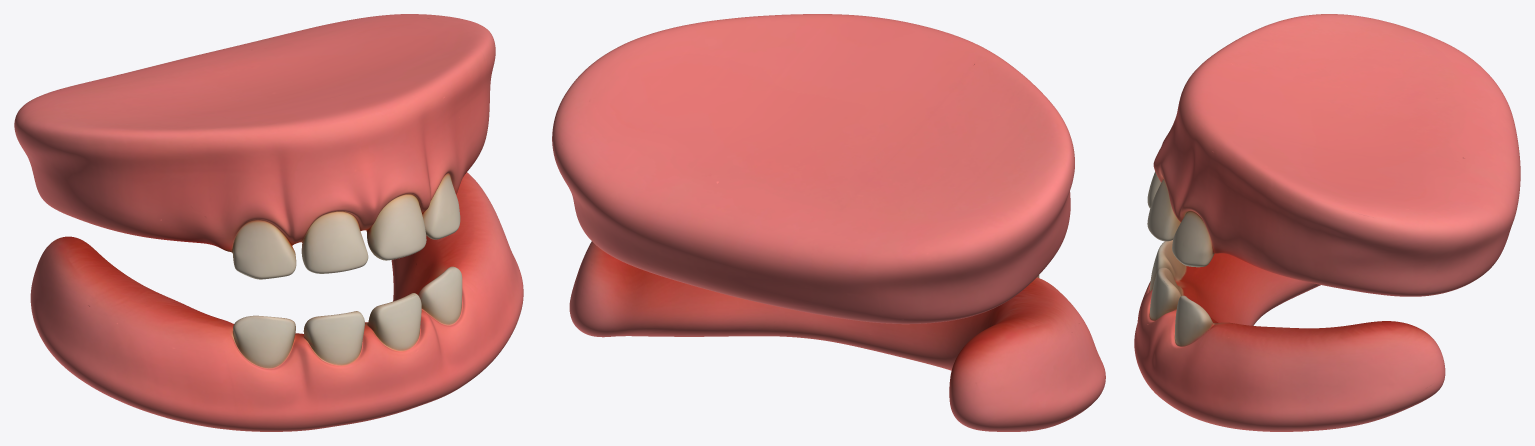
The model's file is mouth.glb.
3 views of the same model, side by side, from view 1: azimuth 30°, elevation 25°; view 2: azimuth 150°, elevation 25°; view 3: azimuth 270°, elevation 25° (orthographic). The views are drawn at different scales.
Bounding box in the file's own units: 1.07 × 0.6641 × 0.8536.
Materials: 1 (1 with a texture image).
